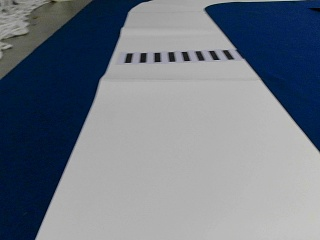crosswalk: (121, 48, 233, 63)
